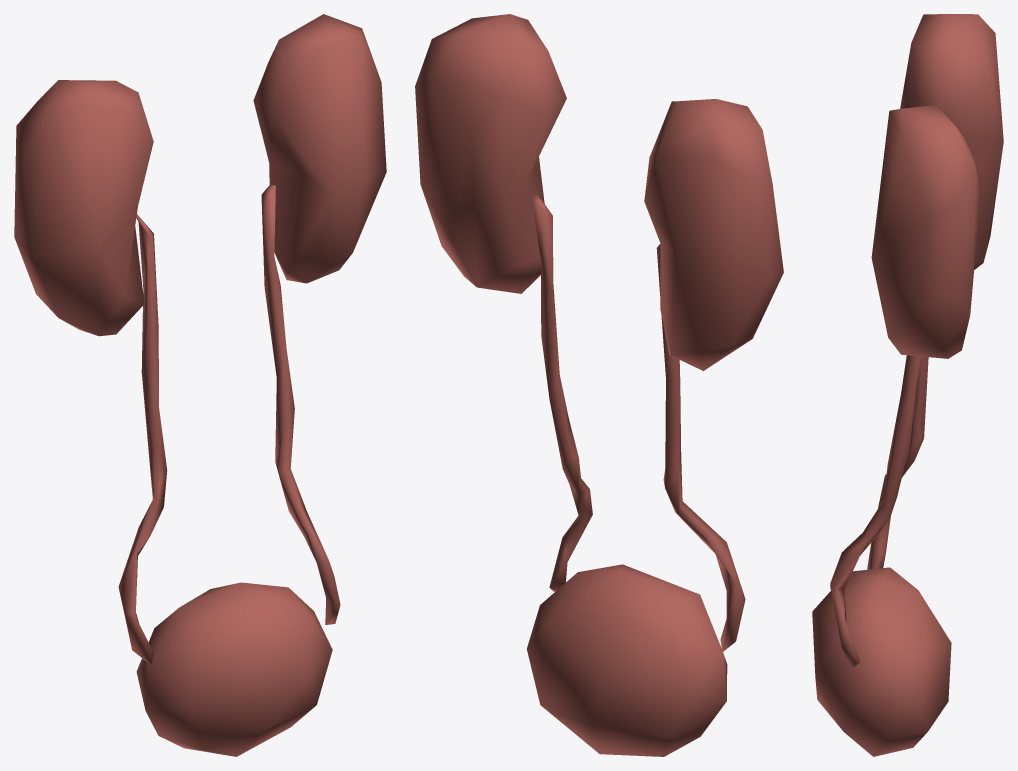
Rendered from pediatric_adolescent_male.urinary.LOD3.glb.
The picture shows the model from 3 angles, left to right: view 1: azimuth 30°, elevation 25°; view 2: azimuth 150°, elevation 25°; view 3: azimuth 270°, elevation 25°; orthographic projection. The views are drawn at different scales.
Visible parts, largest first — view 1: PEDIATRIC.ADOLESCENT.MALE.URINARY.KIDNEY_CORTEX.R, PEDIATRIC.ADOLESCENT.MALE.URINARY.KIDNEY_CORTEX.L, PEDIATRIC.ADOLESCENT.MALE.URINARY.URINARY_BLADDER_WALL, PEDIATRIC.ADOLESCENT.MALE.URINARY.URETER.R, PEDIATRIC.ADOLESCENT.MALE.URINARY.URETER.L; view 2: PEDIATRIC.ADOLESCENT.MALE.URINARY.KIDNEY_CORTEX.L, PEDIATRIC.ADOLESCENT.MALE.URINARY.URINARY_BLADDER_WALL, PEDIATRIC.ADOLESCENT.MALE.URINARY.KIDNEY_CORTEX.R, PEDIATRIC.ADOLESCENT.MALE.URINARY.URETER.L, PEDIATRIC.ADOLESCENT.MALE.URINARY.URETER.R; view 3: PEDIATRIC.ADOLESCENT.MALE.URINARY.KIDNEY_CORTEX.L, PEDIATRIC.ADOLESCENT.MALE.URINARY.URINARY_BLADDER_WALL, PEDIATRIC.ADOLESCENT.MALE.URINARY.KIDNEY_CORTEX.R, PEDIATRIC.ADOLESCENT.MALE.URINARY.URETER.L, PEDIATRIC.ADOLESCENT.MALE.URINARY.URETER.R.
Part boxes in pixels (box(x1,y1,x2,y2)): PEDIATRIC.ADOLESCENT.MALE.URINARY.KIDNEY_CORTEX.R: box(14, 80, 153, 336); PEDIATRIC.ADOLESCENT.MALE.URINARY.KIDNEY_CORTEX.L: box(253, 14, 386, 283); PEDIATRIC.ADOLESCENT.MALE.URINARY.URINARY_BLADDER_WALL: box(136, 582, 332, 756); PEDIATRIC.ADOLESCENT.MALE.URINARY.URETER.R: box(118, 214, 167, 663); PEDIATRIC.ADOLESCENT.MALE.URINARY.URETER.L: box(261, 184, 340, 624); PEDIATRIC.ADOLESCENT.MALE.URINARY.KIDNEY_CORTEX.L: box(415, 14, 566, 293); PEDIATRIC.ADOLESCENT.MALE.URINARY.URINARY_BLADDER_WALL: box(527, 564, 727, 756); PEDIATRIC.ADOLESCENT.MALE.URINARY.KIDNEY_CORTEX.R: box(644, 99, 783, 370); PEDIATRIC.ADOLESCENT.MALE.URINARY.URETER.L: box(532, 193, 592, 591); PEDIATRIC.ADOLESCENT.MALE.URINARY.URETER.R: box(656, 244, 745, 652); PEDIATRIC.ADOLESCENT.MALE.URINARY.KIDNEY_CORTEX.L: box(871, 105, 980, 358); PEDIATRIC.ADOLESCENT.MALE.URINARY.URINARY_BLADDER_WALL: box(812, 567, 951, 756); PEDIATRIC.ADOLESCENT.MALE.URINARY.KIDNEY_CORTEX.R: box(900, 14, 1003, 269); PEDIATRIC.ADOLESCENT.MALE.URINARY.URETER.L: box(830, 355, 921, 669); PEDIATRIC.ADOLESCENT.MALE.URINARY.URETER.R: box(867, 356, 928, 569).
Bounding box in the file's own units: 0.1685 × 0.314 × 0.0797.
